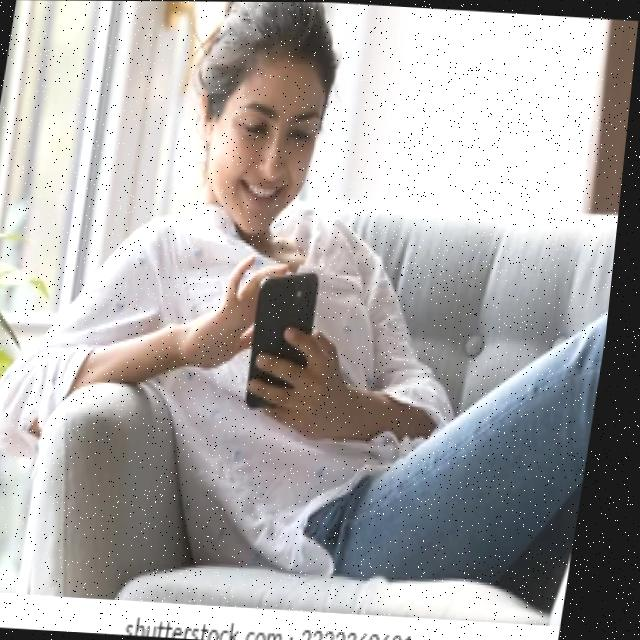smartphone-person: (0, 0, 492, 605)
